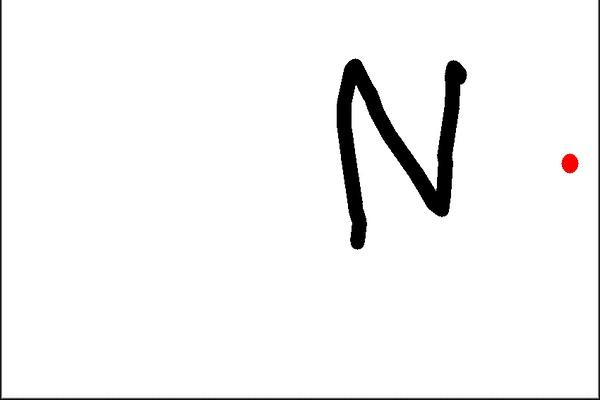N: (327, 51, 468, 254)
